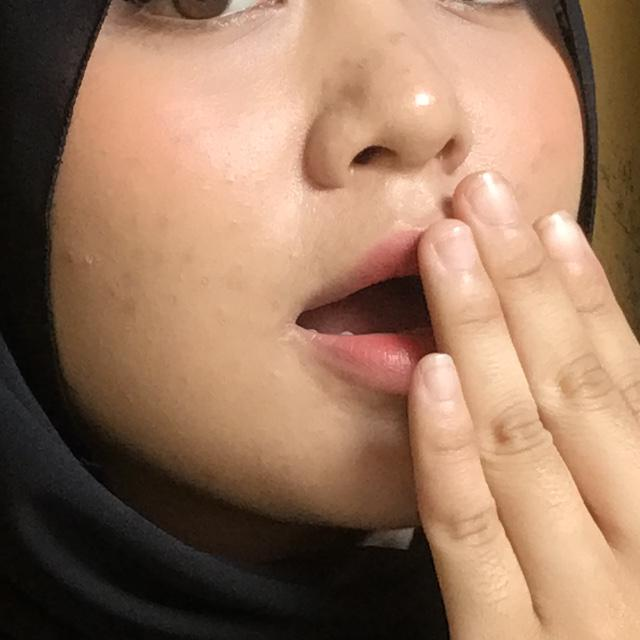ngantuk: (180, 156, 640, 640)
